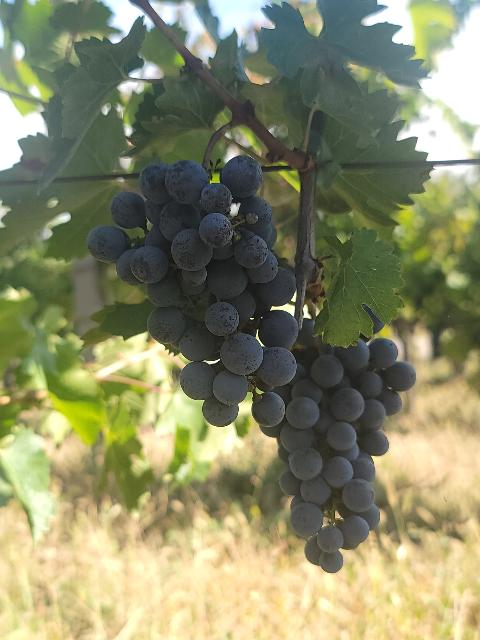grapes: (88, 155, 299, 426), (262, 318, 416, 571)
